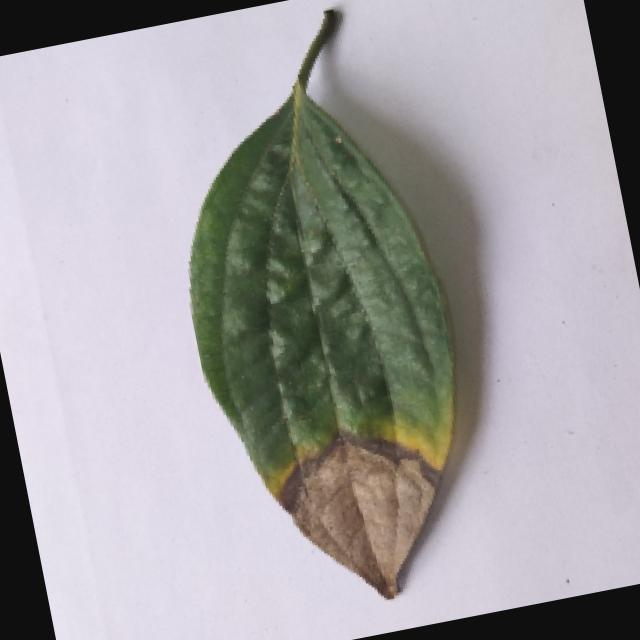footrot: (137, 0, 508, 621)
